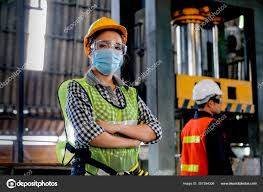Helmet: (80, 19, 131, 38), (191, 79, 221, 99)
Jacket: (60, 81, 145, 178), (179, 117, 212, 177)
Mask: (87, 51, 128, 75)
